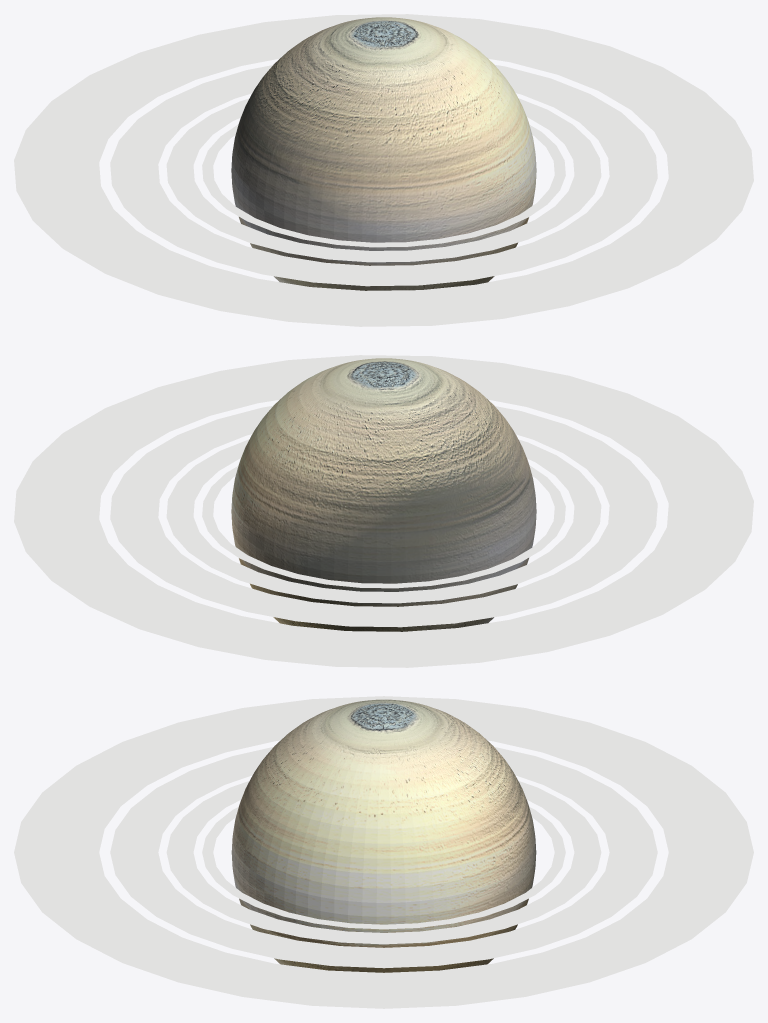
Rendered from saturno.obj.
3 renders of one model, top to bottom at view 1: azimuth 30°, elevation 25°; view 2: azimuth 150°, elevation 25°; view 3: azimuth 270°, elevation 25°, orthographic.
Visible parts, largest first — view 1: Circle, Sphere; view 2: Circle, Sphere; view 3: Circle, Sphere.
Part boxes in pixels (box(x1,y1,x2,y2)): Circle: box(14, 14, 753, 326); Sphere: box(231, 17, 536, 290); Circle: box(14, 355, 753, 667); Sphere: box(231, 358, 536, 631); Circle: box(14, 696, 753, 1008); Sphere: box(231, 699, 536, 972).
Size of the model in its own units: 4.8 by 2 by 4.8.
1 material, 1 textured.
